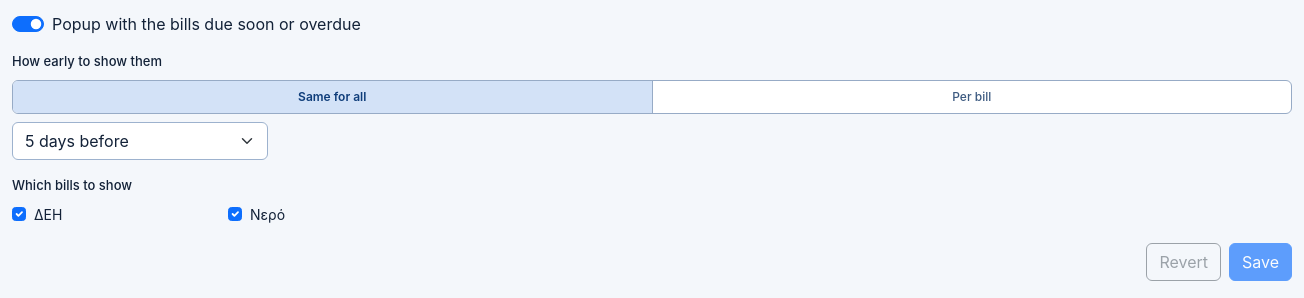
Scenario: the bills popup's settings › writes nothing as it is changed, and Save and Revert wait for a change
The image size is (1304, 298).
Expected: the button "Save" is disabled, [1229,243,1292,281]
Expected: the button "Revert" is disabled, [1146,243,1221,281]
Select "1 month before" in the dropdown named "How early, for all" at (140, 140), box [12,122,268,160]
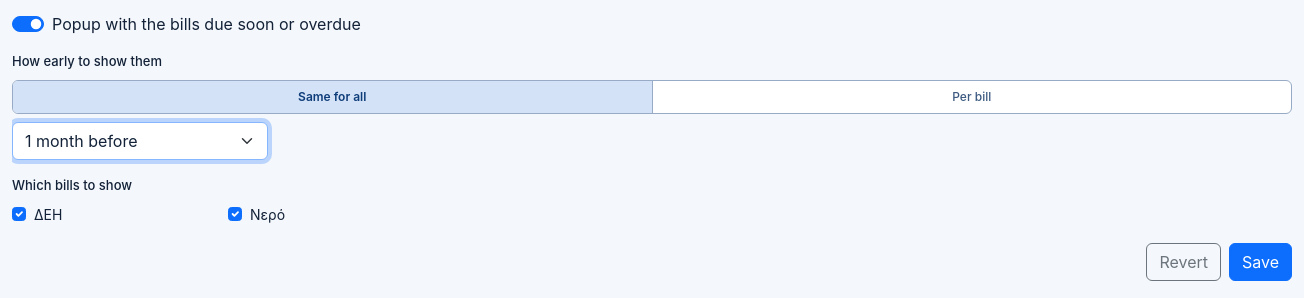
Expected: the button "Save" is enabled, [1229,243,1292,281]
